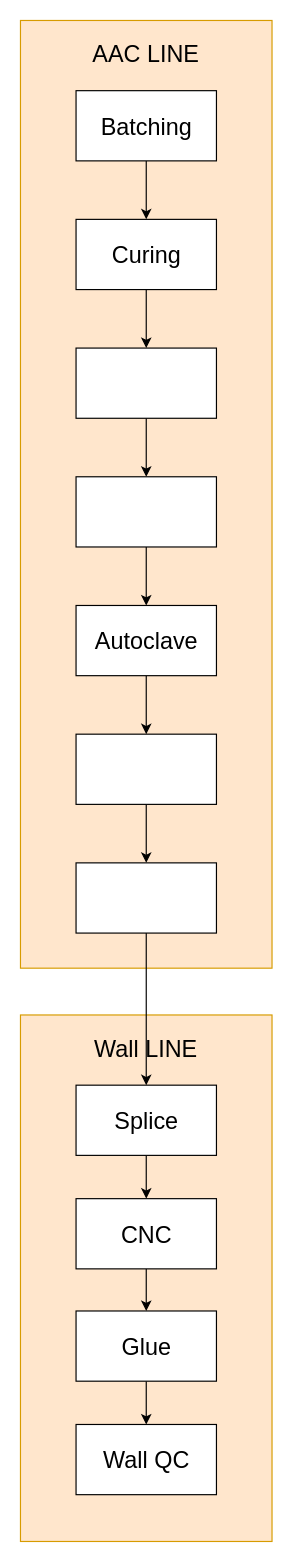
Image size: 293x1562. Some labels were removed from this diagram. Each missing label, with the centre of its shape:
"AAC CUT" goes at point (145, 511).
"AAC QC" goes at point (145, 768).
"Demould" goes at point (145, 382).
"Warehouse" goes at point (145, 897).
